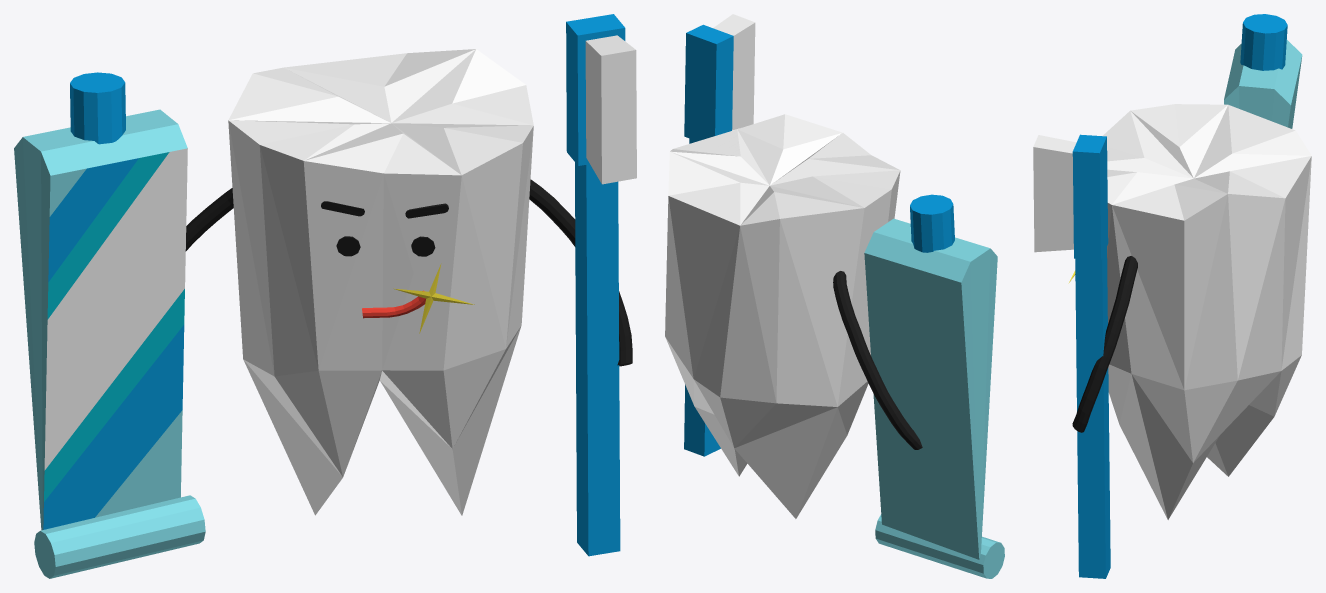
The model's file is scene_xoPVHRI1w3.glb.
3 renders of one model, left to right at view 1: azimuth 30°, elevation 25°; view 2: azimuth 150°, elevation 25°; view 3: azimuth 270°, elevation 25°, orthographic. The views are drawn at different scales.
Parts seen in each view (by area): view 1: group338153130, group326098903, group1025037458, group185317002, group63832617, group1527917465, group308485656; view 2: group338153130, group326098903, group1025037458, group185317002, group308485656, group63832617; view 3: group338153130, group1025037458, group326098903, group1527917465, group63832617.
Part boxes in pixels (x1=…): group338153130: x1=228, y1=49, x2=533, y2=515; group326098903: x1=14, y1=109, x2=187, y2=530; group1025037458: x1=566, y1=14, x2=636, y2=556; group185317002: x1=34, y1=495, x2=205, y2=578; group63832617: x1=70, y1=72, x2=125, y2=144; group1527917465: x1=529, y1=179, x2=632, y2=366; group308485656: x1=185, y1=188, x2=233, y2=251; group338153130: x1=665, y1=114, x2=900, y2=518; group326098903: x1=864, y1=218, x2=997, y2=559; group1025037458: x1=684, y1=14, x2=755, y2=456; group185317002: x1=875, y1=514, x2=1004, y2=578; group308485656: x1=833, y1=271, x2=922, y2=449; group63832617: x1=910, y1=194, x2=954, y2=252; group338153130: x1=1102, y1=104, x2=1311, y2=519; group1025037458: x1=1033, y1=134, x2=1110, y2=578; group326098903: x1=1224, y1=39, x2=1302, y2=128; group1527917465: x1=1072, y1=256, x2=1137, y2=432; group63832617: x1=1240, y1=14, x2=1287, y2=70.
Size of the model in its own units: 0.4671 by 0.48 by 0.2839.
